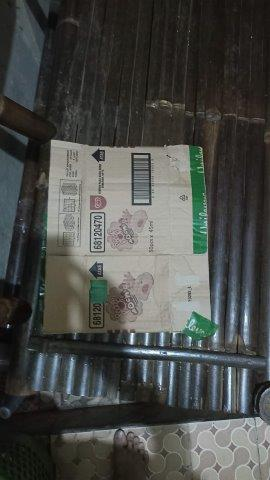kardus: (42, 139, 211, 335)
